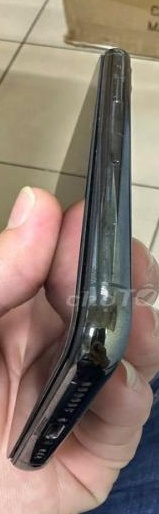scratch: (94, 52, 142, 92)
